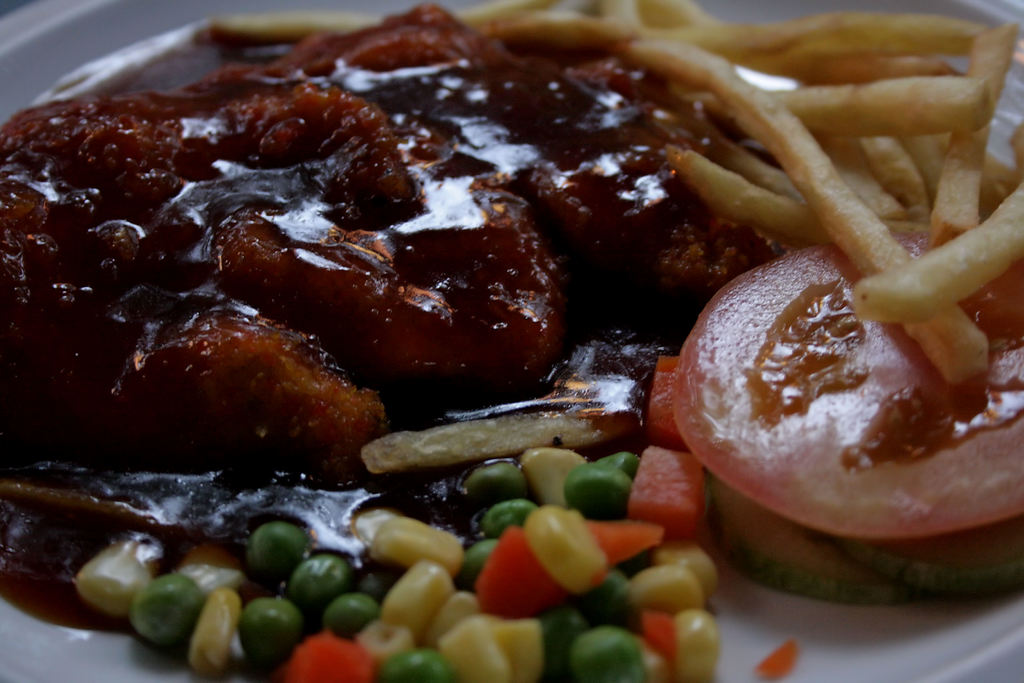French fries: (194, 0, 1023, 388)
